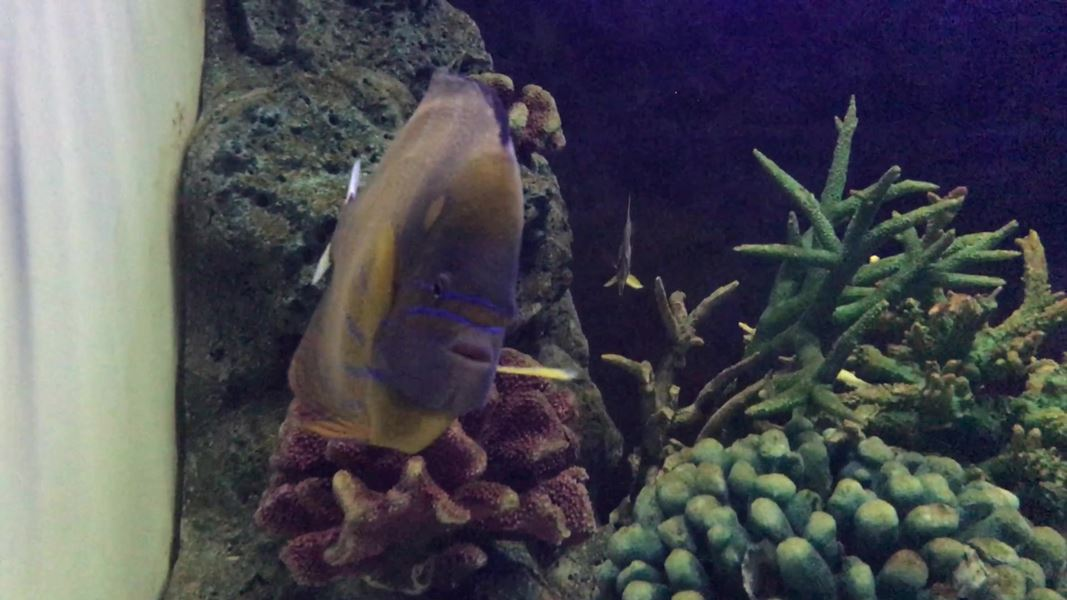Blue ring angelfish: (245, 61, 600, 466)
